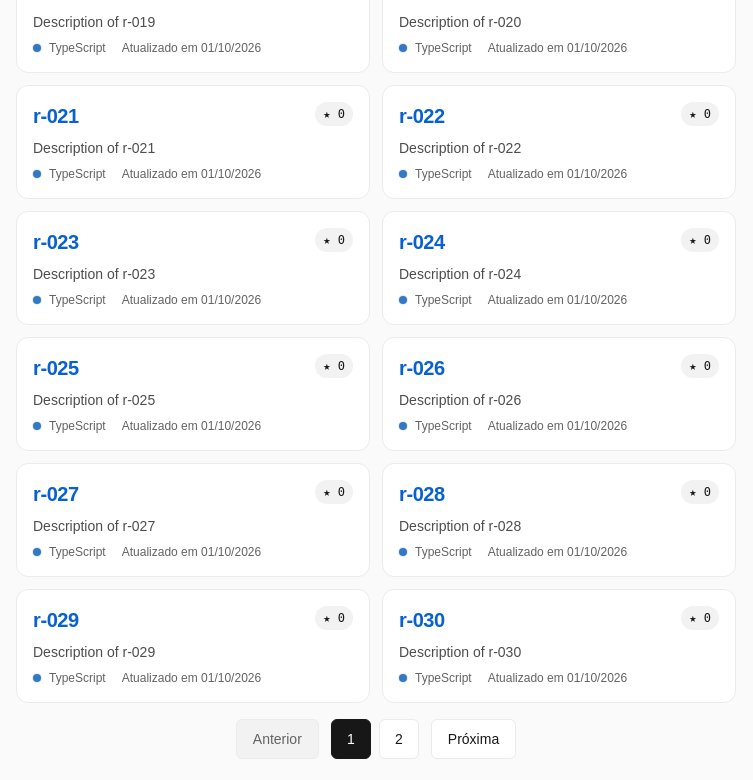
Test: repository list route › focus moves to the opposite pager button at a limit (click)
The image size is (753, 780).
(page scrolled)
Click the button "Próxima" at (474, 739), box [431, 719, 516, 759]
(page scrolled)
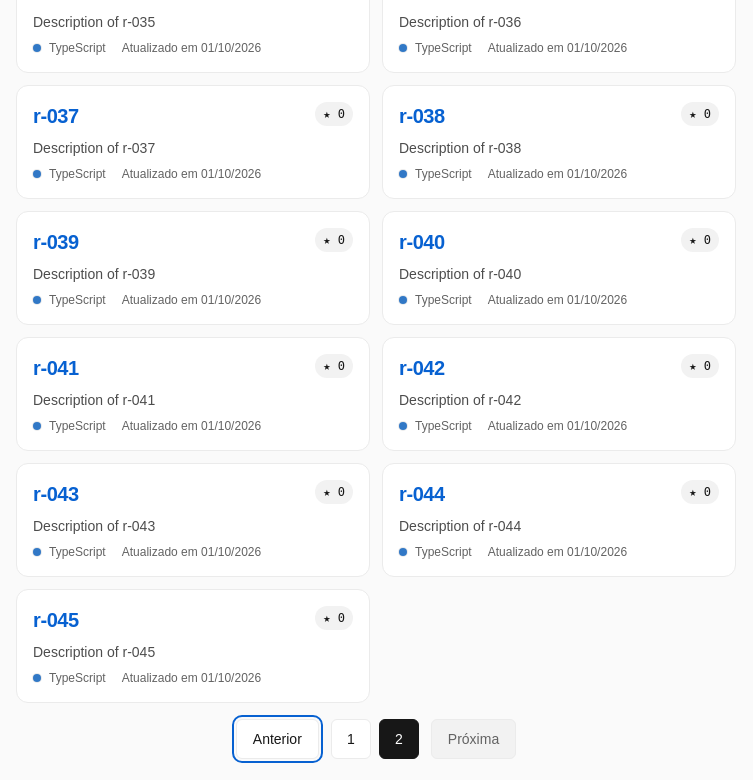
Check: the button "Próxima" is disabled, box [431, 719, 516, 759]
Click the button "Anterior" at (277, 739), box [236, 719, 319, 759]
(page scrolled)
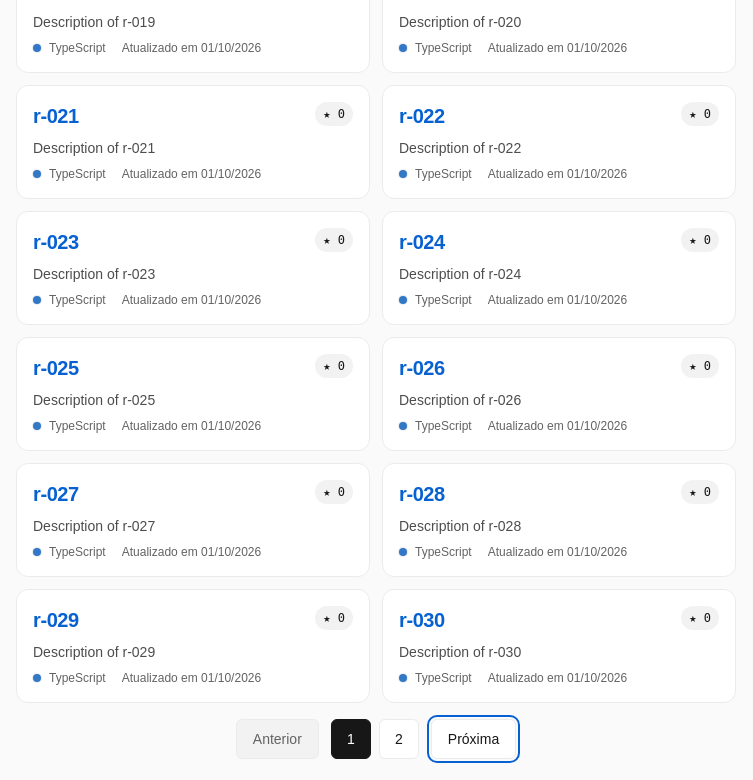
Check: the button "Anterior" is disabled, box [236, 719, 319, 759]
